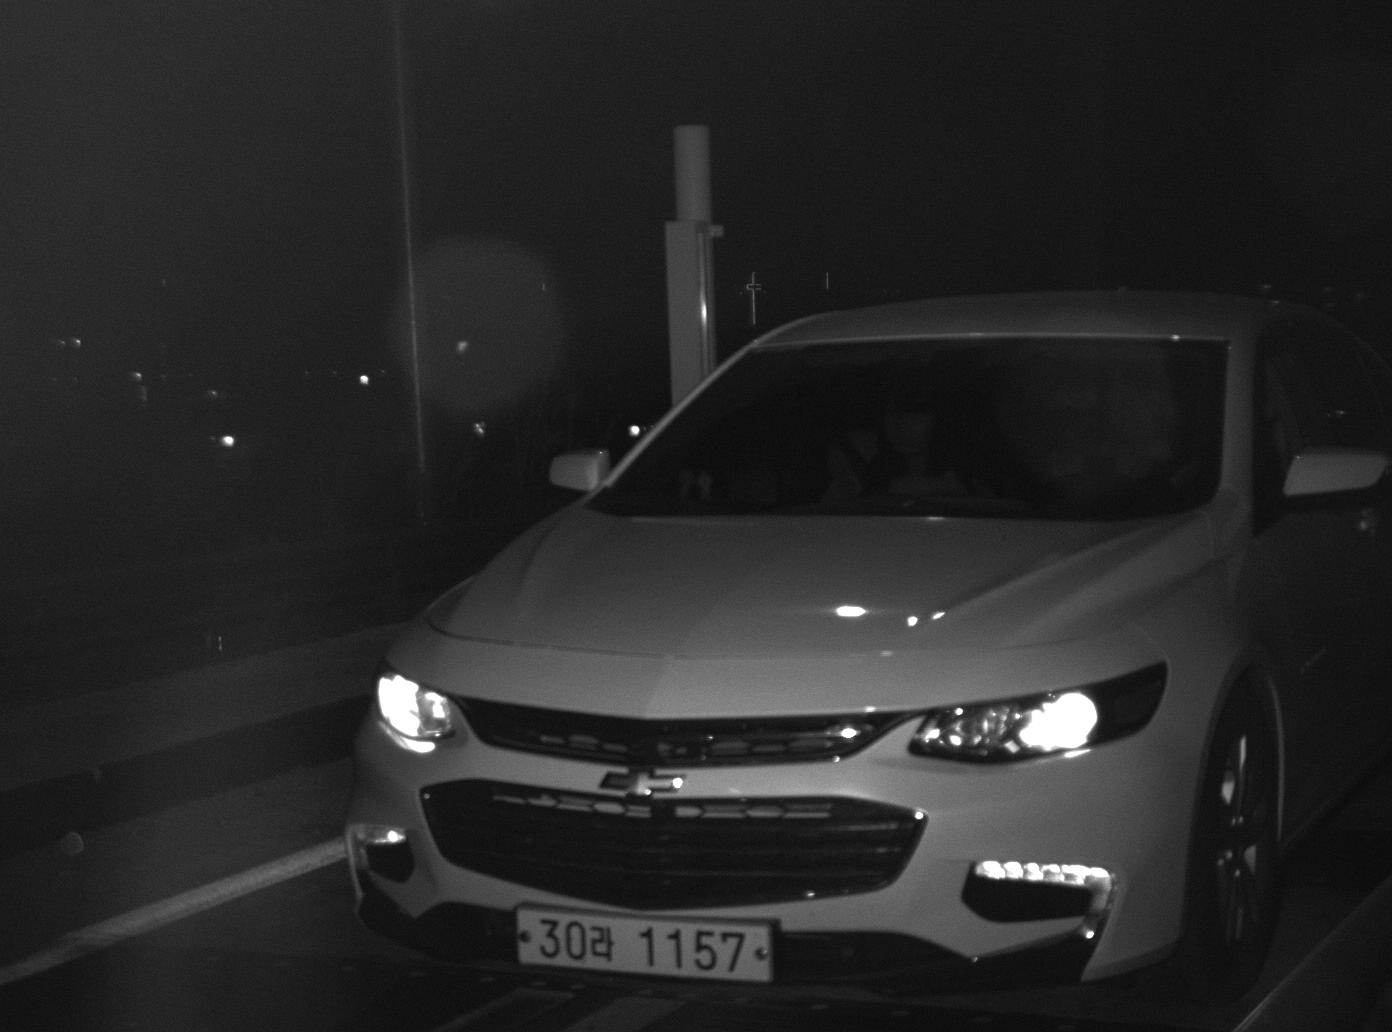car: (338, 285, 1392, 1027)
plate: (506, 903, 776, 987)
